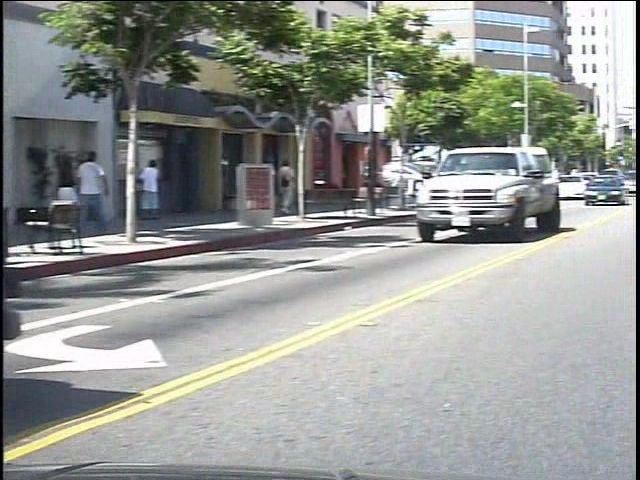person: (69, 148, 98, 239), (91, 146, 124, 218), (153, 148, 179, 228), (291, 158, 312, 218)
